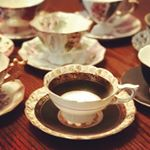cups: (42, 61, 140, 129), (27, 9, 96, 64)
